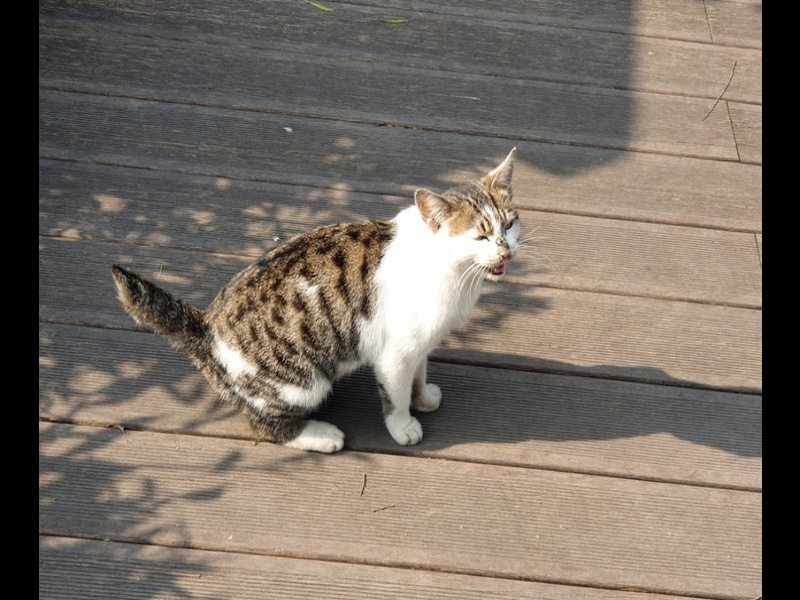cat: (110, 144, 525, 468)
